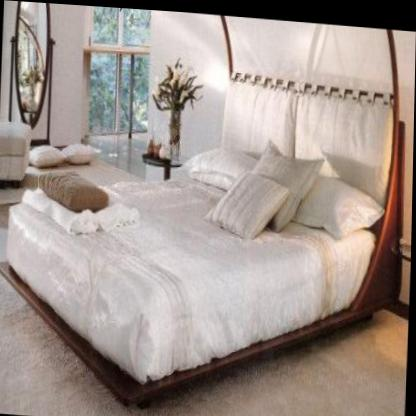Bed: (3, 73, 403, 394)
Window: (81, 4, 152, 140)
